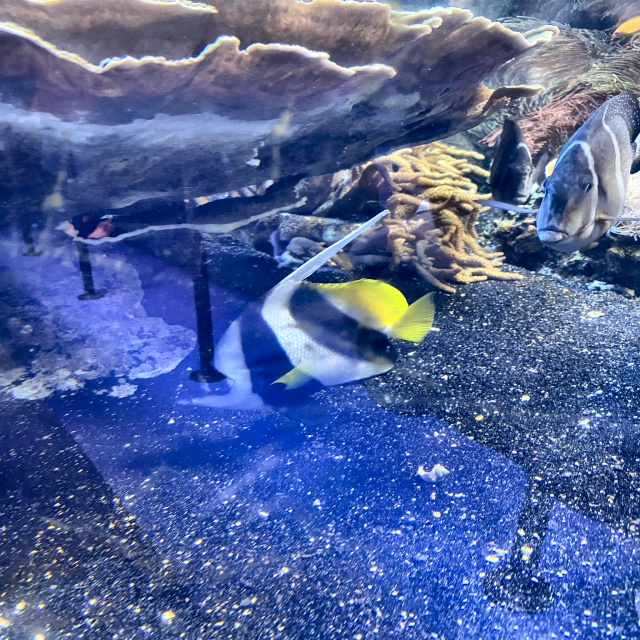fish: (178, 280, 437, 413), (535, 90, 639, 251)
